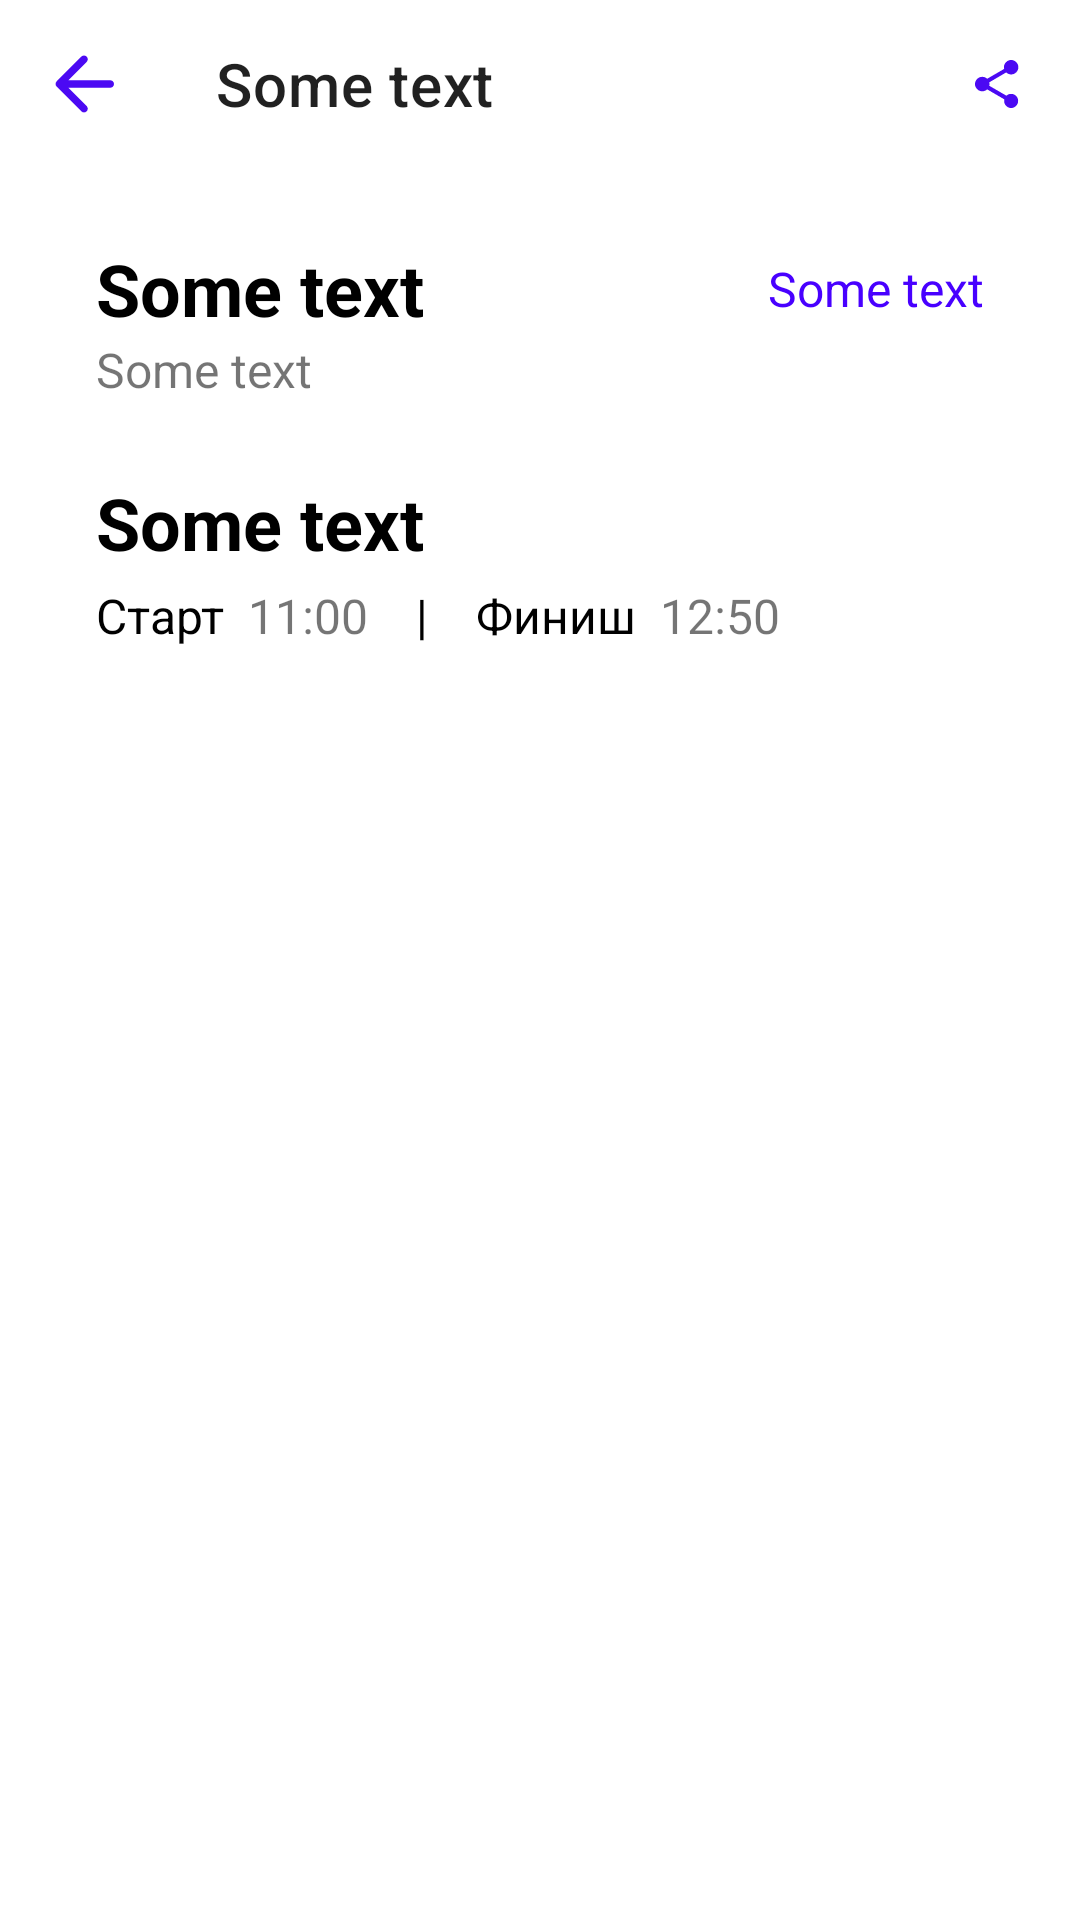

Screen size 1080px×1920px. Icon name, then its center in pixels as point (x, y):
share: point (997, 84)
